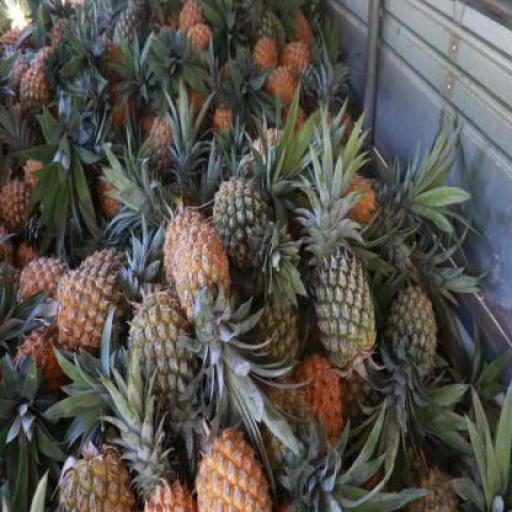------------------------------: (127, 294, 198, 403), (211, 174, 275, 273), (57, 443, 130, 512), (20, 66, 53, 124)
Pineapple - v8 v1: (58, 258, 127, 360), (191, 428, 268, 511), (175, 220, 236, 322), (164, 207, 213, 296), (20, 254, 66, 316), (0, 176, 38, 230)
